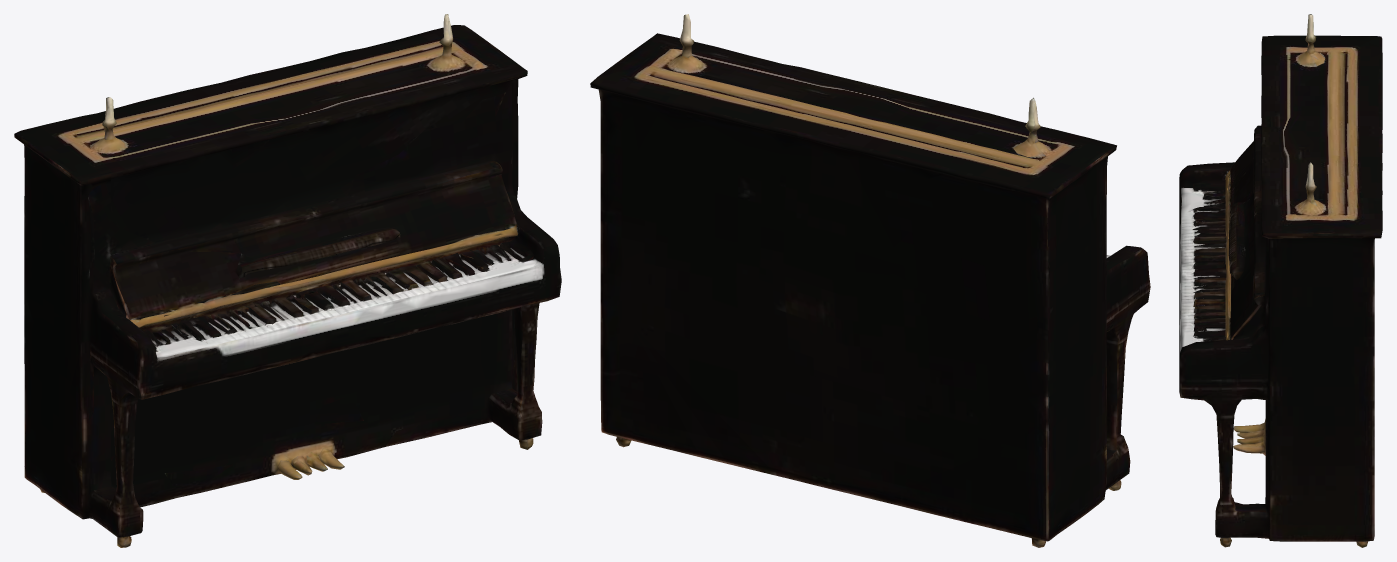
The model's file is piano.glb.
3 views of the same model, side by side, from view 1: azimuth 30°, elevation 25°; view 2: azimuth 150°, elevation 25°; view 3: azimuth 270°, elevation 25° (orthographic). The views are drawn at different scales.
Parts seen in each view (by area): view 1: geometry_0; view 2: geometry_0; view 3: geometry_0.
Boxes of the visible parts, bbox=[...] form: geometry_0: bbox=[14, 14, 561, 547]; geometry_0: bbox=[590, 14, 1150, 547]; geometry_0: bbox=[1179, 14, 1382, 547].
Bounding box in the file's own units: 1.5 × 1.3 × 0.65.
1 material, 1 textured.
